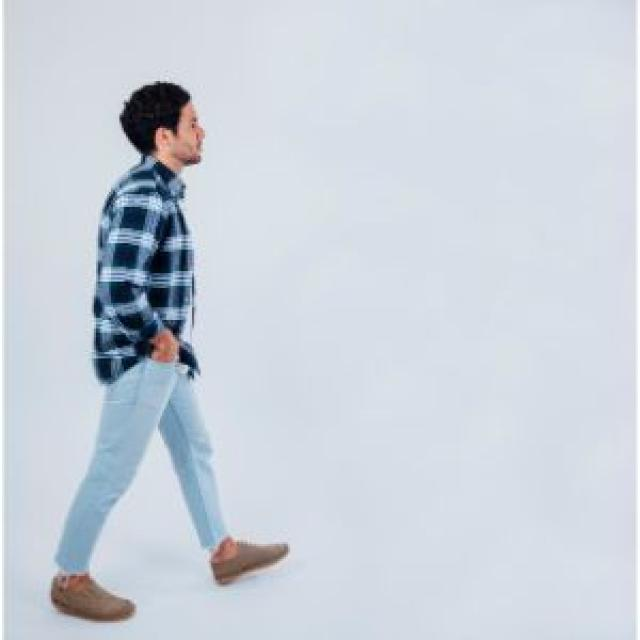nonfall: (52, 78, 287, 614)
